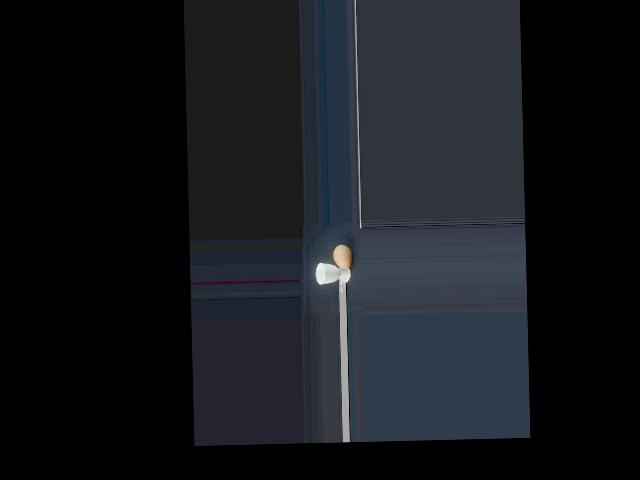egg: (333, 245, 351, 269)
